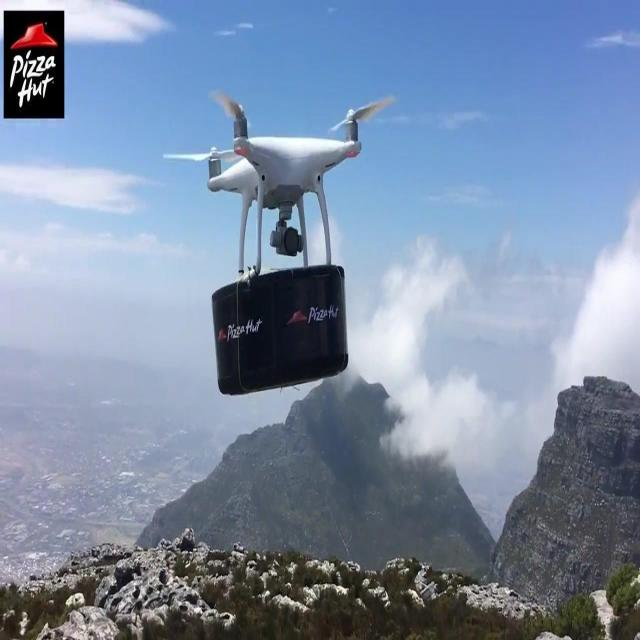UAV: (163, 90, 395, 282)
